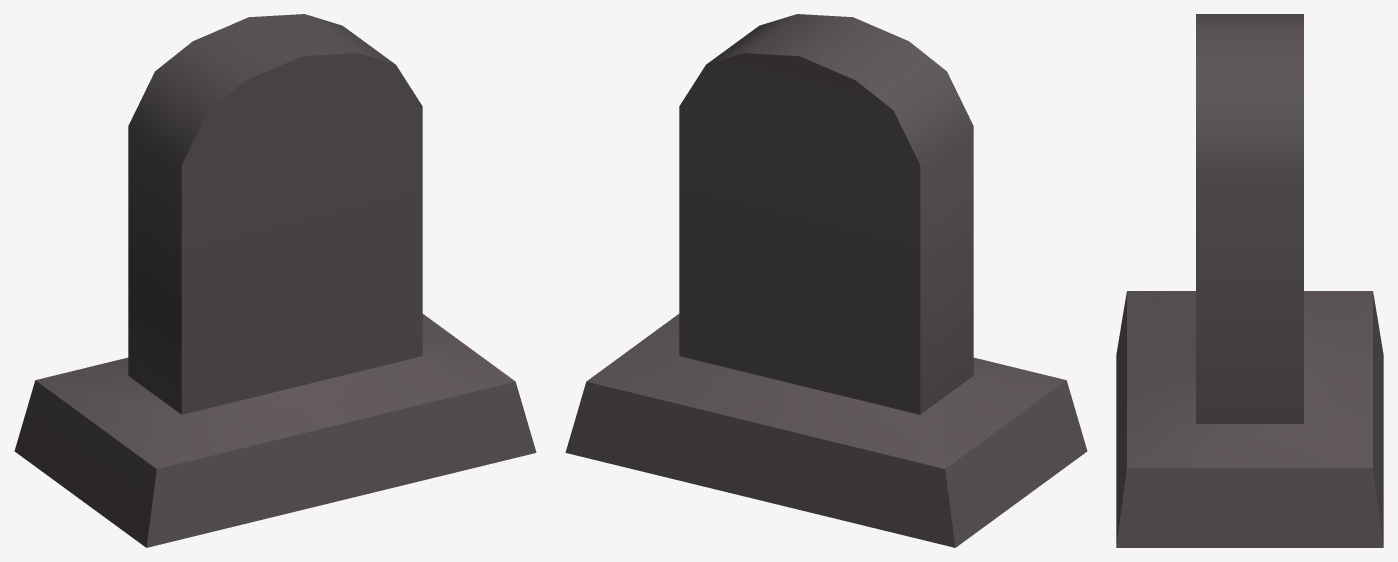
Rendered from Tombstone_1.obj.
3 views of the same model, side by side, from view 1: azimuth 30°, elevation 25°; view 2: azimuth 150°, elevation 25°; view 3: azimuth 270°, elevation 25° (orthographic).
Visible parts, largest first — view 1: {mesh}Tombstone_1_Cube.029; view 2: {mesh}Tombstone_1_Cube.029; view 3: {mesh}Tombstone_1_Cube.029.
Boxes of the visible parts, x1,y1,x2,y2 form: {mesh}Tombstone_1_Cube.029: (14, 14, 536, 547); {mesh}Tombstone_1_Cube.029: (565, 14, 1087, 547); {mesh}Tombstone_1_Cube.029: (1116, 14, 1383, 547).
Bounding box in the file's own units: 52.99 × 53.92 × 31.07.
